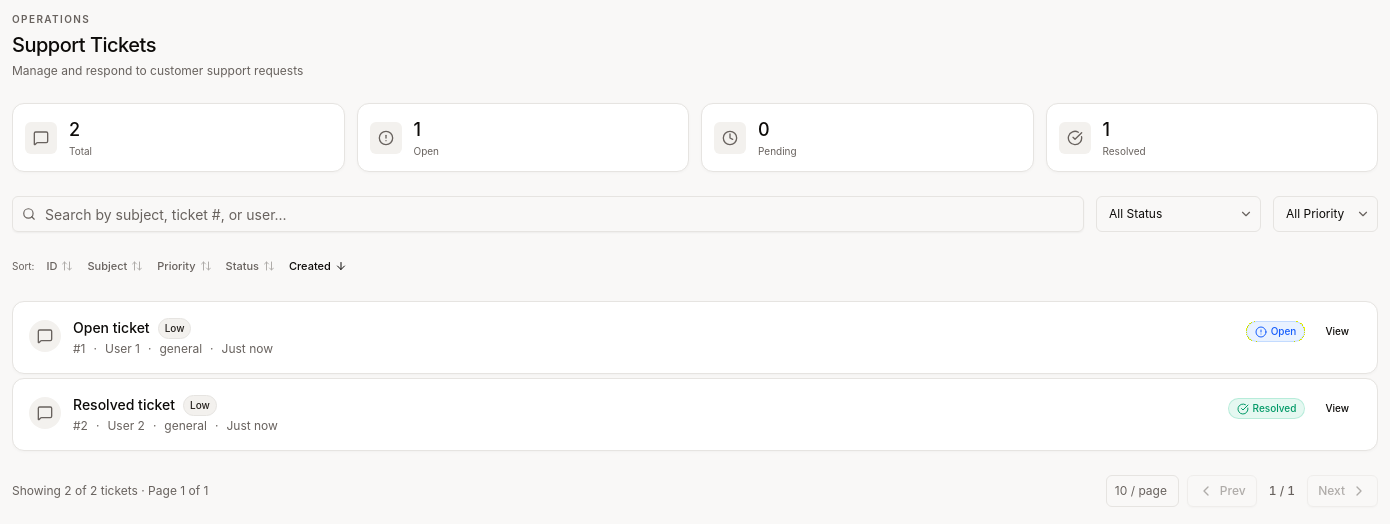
Test: AdminSupport Page › Ticket List › filters by status
Select "Open" in the 1st dropdown showing "All Status": (1178, 214) [1096,196,1261,232]
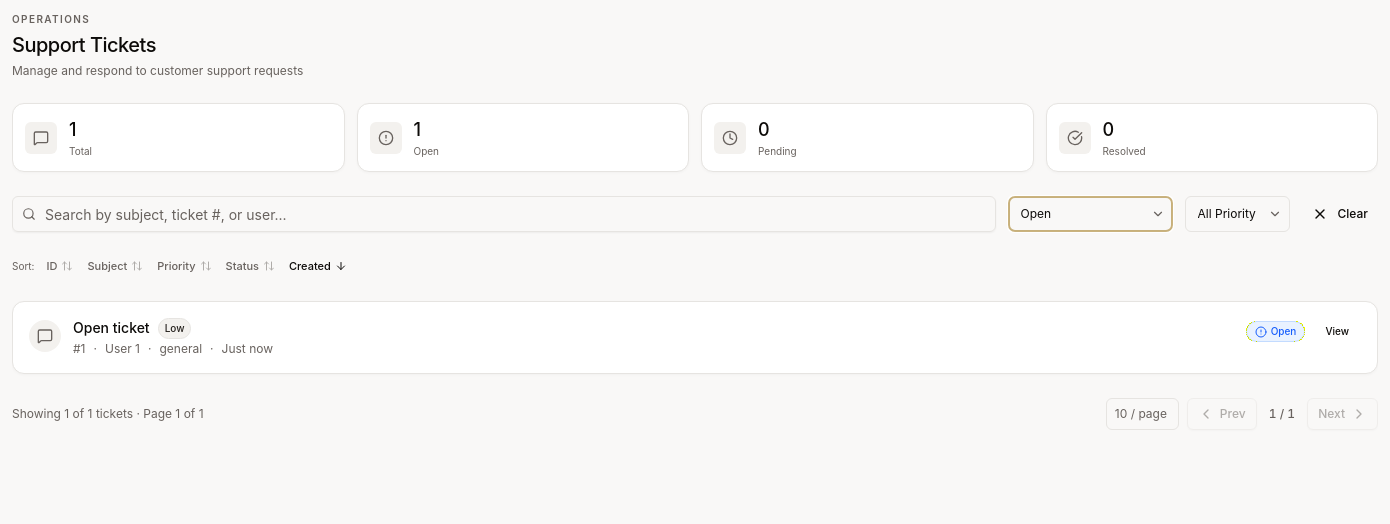
Expected: the text "Open ticket" is shown, [73,318,150,338]
Expected: the text "Resolved ticket" is gone
